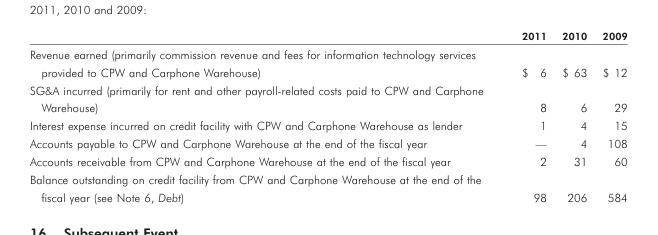table: (28, 28, 626, 203)
table column: (28, 28, 501, 203), (501, 28, 553, 203), (553, 28, 593, 203), (593, 28, 626, 203)
table column header: (28, 28, 626, 43)
table row: (28, 43, 626, 80), (28, 80, 626, 116), (28, 169, 626, 203), (28, 116, 626, 134), (28, 134, 626, 152), (28, 152, 626, 169), (28, 28, 626, 43)
